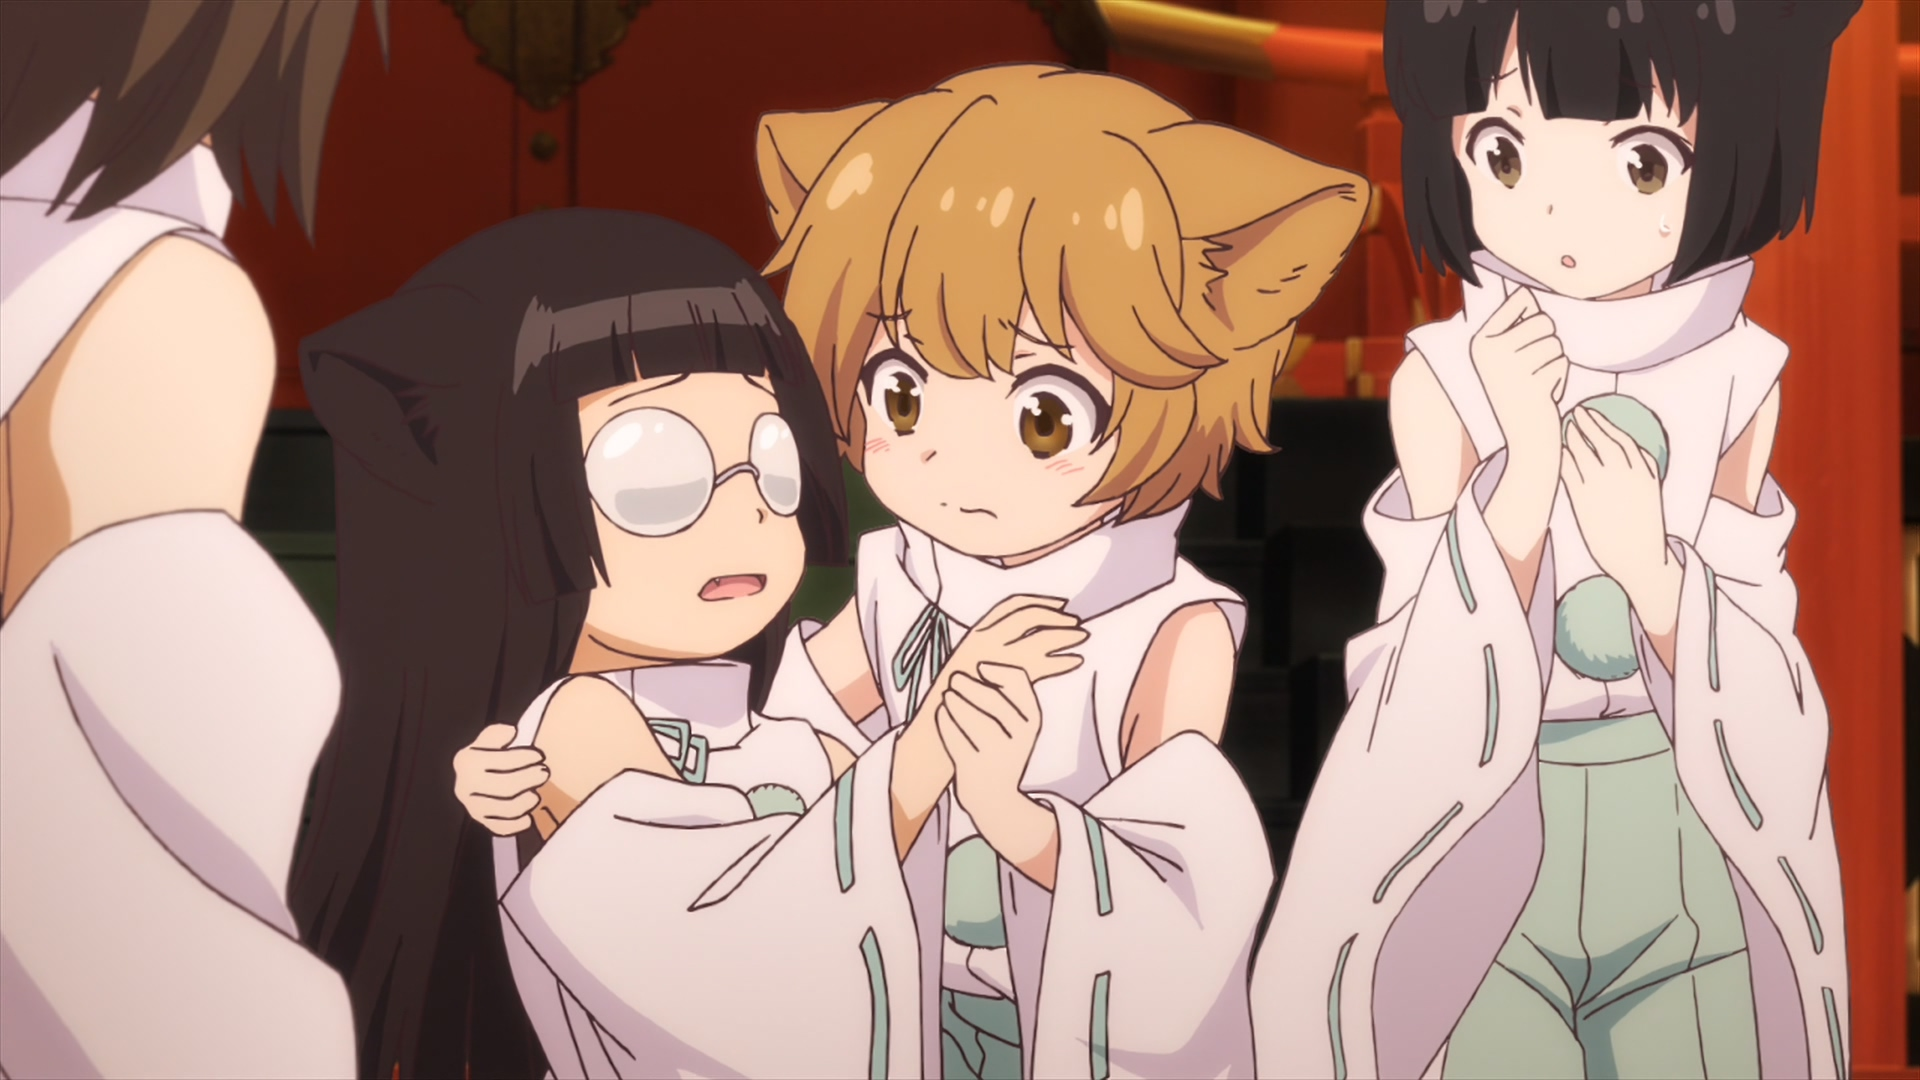其他: (289, 208, 1091, 1080), (1247, 1, 1865, 1080), (754, 65, 1370, 1080), (1, 1, 392, 1080)
